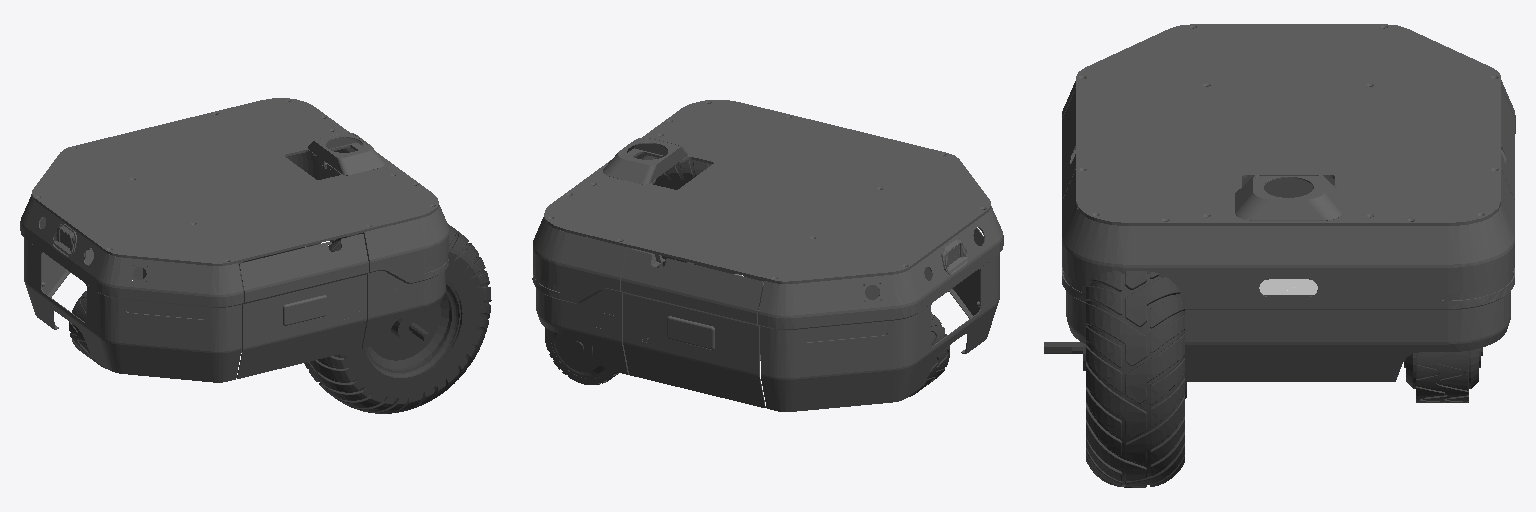
URDF robot description (ranger_delta_description):
<?xml version="1.0" encoding="utf-8"?>
<!-- This URDF was automatically created by SolidWorks to URDF Exporter! Originally created by [author] ([email redacted]) 
     Commit Version: 1.6.0-1-g15f4949  Build Version: 1.6.7594.29634
     For more information, please see http://wiki.ros.org/sw_urdf_exporter -->
<robot
  name="ranger_delta_description">
  <link
    name="base_link">
    <inertial>
      <origin
        xyz="0.00401714128029725 -0.0095612252162035 0.136523007187438"
        rpy="0 0 0" />
      <mass
        value="4.66571167619612" />
      <inertia
        ixx="0.0438692851006923"
        ixy="-2.65606919059867E-05"
        ixz="0.000117164631254687"
        iyy="0.034222178177559"
        iyz="-1.33690788788058E-05"
        izz="0.0717458146990985" />
    </inertial>
    <visual>
      <origin
        xyz="0 0 0"
        rpy="0 0 0" />
      <geometry>
        <mesh
          filename="package://ranger_delta_description/meshes/dae/base_link.dae" />
      </geometry>
      <material
        name="">
        <color
          rgba="0.411764705882353 0.411764705882353 0.411764705882353 1" />
      </material>
    </visual>
    <collision>
      <origin
        xyz="0 0 0"
        rpy="0 0 0" />
      <geometry>
        <mesh
          filename="package://ranger_delta_description/meshes/base_link.STL" />
      </geometry>
    </collision>
  </link>
  <link
    name="camera_link">
    <inertial>
      <origin
        xyz="-0.00020635639316674 -2.35913680941993E-05 6.5758576525396E-05"
        rpy="0 0 0" />
      <mass
        value="0.000545735175152403" />
      <inertia
        ixx="2.27197398719216E-07"
        ixy="-1.38658538749402E-22"
        ixz="4.79767829408248E-22"
        iyy="2.08716915895718E-08"
        iyz="1.392144772577E-11"
        izz="2.0633230530051E-07" />
    </inertial>
    <visual>
      <origin
        xyz="0 0 0"
        rpy="0 0 0" />
      <geometry>
        <mesh
          filename="package://ranger_delta_description/meshes/camera_link.STL" />
      </geometry>
      <material
        name="">
        <color
          rgba="1 1 1 1" />
      </material>
    </visual>
    <collision>
      <origin
        xyz="0 0 0"
        rpy="0 0 0" />
      <geometry>
        <mesh
          filename="package://ranger_delta_description/meshes/camera_link.STL" />
      </geometry>
    </collision>
  </link>
  <joint
    name="camera_joint"
    type="fixed">
    <origin
      xyz="0.269429617705885 0 0.170471043408036"
      rpy="0 -0.139626340159547 0" />
    <parent
      link="base_link" />
    <child
      link="camera_link" />
    <axis
      xyz="0 0 0" />
  </joint>
  <link
    name="imu_link">
    <inertial>
      <origin
        xyz="-7.5117370892025E-05 7.51173708920185E-05 0.0015"
        rpy="0 0 0" />
      <mass
        value="0.000426" />
      <inertia
        ixx="5.32909624413146E-09"
        ixy="-1.72403755868543E-10"
        ixz="-1.46688700166429E-24"
        iyy="5.32909624413147E-09"
        iyz="-1.33818263579742E-25"
        izz="1.00191924882629E-08" />
    </inertial>
    <visual>
      <origin
        xyz="0 0 0"
        rpy="0 0 0" />
      <geometry>
        <mesh
          filename="package://ranger_delta_description/meshes/imu_link.STL" />
      </geometry>
      <material
        name="">
        <color
          rgba="1 1 1 1" />
      </material>
    </visual>
    <collision>
      <origin
        xyz="0 0 0"
        rpy="0 0 0" />
      <geometry>
        <mesh
          filename="package://ranger_delta_description/meshes/imu_link.STL" />
      </geometry>
    </collision>
  </link>
  <joint
    name="imu_joint"
    type="fixed">
    <origin
      xyz="-0.00269279792190514 0.117506197251626 0.172572605714962"
      rpy="-1.5707963267949 -1.5707963267949 0" />
    <parent
      link="base_link" />
    <child
      link="imu_link" />
    <axis
      xyz="0 0 0" />
  </joint>
  <link
    name="lidar_link">
    <inertial>
      <origin
        xyz="-0.000519653097243722 1.40582277136291E-06 -0.0153588972954363"
        rpy="0 0 0" />
      <mass
        value="0.0261173591903215" />
      <inertia
        ixx="9.62352103257866E-06"
        ixy="-1.40729107640038E-11"
        ixz="2.47092730045243E-08"
        iyy="9.5183581780262E-06"
        iyz="4.21438208002377E-12"
        izz="1.72745370263659E-05" />
    </inertial>
    <visual>
      <origin
        xyz="0 0 0"
        rpy="0 0 0" />
      <geometry>
        <mesh
          filename="package://ranger_delta_description/meshes/dae/lidar_link.dae" />
      </geometry>
      <material
        name="">
        <color
          rgba="1 1 0.501960784313725 0.4" />
      </material>
    </visual>
    <collision>
      <origin
        xyz="0 0 0"
        rpy="0 0 0" />
      <geometry>
        <mesh
          filename="package://ranger_delta_description/meshes/lidar_link.STL" />
      </geometry>
    </collision>
  </link>
  <joint
    name="lidar_joint"
    type="fixed">
    <origin
      xyz="0.208499999999796 0 0.26805"
      rpy="0 0 0" />
    <parent
      link="base_link" />
    <child
      link="lidar_link" />
    <axis
      xyz="0 0 0" />
  </joint>
  <link
    name="camera_back_link">
    <inertial>
      <origin
        xyz="-0.00772337441159976 9.00870394958015E-05 -0.000242677966108155"
        rpy="0 0 0" />
      <mass
        value="0.031807044617052" />
      <inertia
        ixx="1.19183830276969E-05"
        ixy="2.62706916119488E-08"
        ixz="2.95098927434596E-07"
        iyy="4.39930252946608E-06"
        iyz="-1.35990864467845E-08"
        izz="1.02713446396506E-05" />
    </inertial>
    <visual>
      <origin
        xyz="0 0 0"
        rpy="0 0 0" />
      <geometry>
        <mesh
          filename="package://ranger_delta_description/meshes/camera_back_link.STL" />
      </geometry>
      <material
        name="">
        <color
          rgba="0.411764705882353 0.411764705882353 0.411764705882353 1" />
      </material>
    </visual>
    <collision>
      <origin
        xyz="0 0 0"
        rpy="0 0 0" />
      <geometry>
        <mesh
          filename="package://ranger_delta_description/meshes/camera_back_link.STL" />
      </geometry>
    </collision>
  </link>
  <joint
    name="camera_back_joint"
    type="fixed">
    <origin
      xyz="-0.264464976968079 1.2216555984981E-05 0.216750000000002"
      rpy="0 0 3.14159265358979" />
    <parent
      link="base_link" />
    <child
      link="camera_back_link" />
    <axis
      xyz="0 0 0" />
  </joint>
  <link
    name="rr_steering_link">
    <inertial>
      <origin
        xyz="-4.41226731558442E-05 0.0157129719173068 0.00410410320715254"
        rpy="0 0 0" />
      <mass
        value="0.935307991518183" />
      <inertia
        ixx="0.00108568401564347"
        ixy="7.74351719122828E-08"
        ixz="-2.33490053545584E-07"
        iyy="0.0010645394000231"
        iyz="-0.000235815859375118"
        izz="0.00125389488464142" />
    </inertial>
    <visual>
      <origin
        xyz="0 0 0"
        rpy="0 0 0" />
      <geometry>
        <mesh
          filename="package://ranger_delta_description/meshes/rr_steering_link.STL" />
      </geometry>
      <material
        name="">
        <color
          rgba="1 1 1 1" />
      </material>
    </visual>
    <collision>
      <origin
        xyz="0 0 0"
        rpy="0 0 0" />
      <geometry>
        <mesh
          filename="package://ranger_delta_description/meshes/rr_steering_link.STL" />
      </geometry>
    </collision>
  </link>
  <joint
    name="rr_steering_joint"
    type="continuous">
    <origin
      xyz="0.194 0.169 0.1355"
      rpy="-3.14159265358979 0 0" />
    <parent
      link="base_link" />
    <child
      link="rr_steering_link" />
    <axis
      xyz="0 0 1" />
  </joint>
  <link
    name="rr_wheel_link">
    <inertial>
      <origin
        xyz="6.57989607244502E-09 -7.59169092978684E-07 0.000340423849907151"
        rpy="0 0 0" />
      <mass
        value="0.820583552422171" />
      <inertia
        ixx="0.00105118792598525"
        ixy="-1.65641260568635E-09"
        ixz="-7.20794305982652E-10"
        iyy="0.0010511896156861"
        iyz="-2.37212383626168E-08"
        izz="0.00137093102578645" />
    </inertial>
    <visual>
      <origin
        xyz="0 0 0"
        rpy="0 0 0" />
      <geometry>
        <mesh
          filename="package://ranger_delta_description/meshes/rr_wheel_link.STL" />
      </geometry>
      <material
        name="">
        <color
          rgba="0.309803921568627 0.309803921568627 0.309803921568627 1" />
      </material>
    </visual>
    <collision>
      <origin
        xyz="0 0 0"
        rpy="0 0 0" />
      <geometry>
        <mesh
          filename="package://ranger_delta_description/meshes/rr_wheel_link.STL" />
      </geometry>
    </collision>
  </link>
  <joint
    name="rr_wheel_joint"
    type="continuous">
    <origin
      xyz="0 0 0.0749999999999999"
      rpy="-1.5707963267949 -0.0182073959539045 0" />
    <parent
      link="rr_steering_link" />
    <child
      link="rr_wheel_link" />
    <axis
      xyz="0 0 1" />
  </joint>
  <link
    name="rl_steering_link">
    <inertial>
      <origin
        xyz="4.41226731559552E-05 -0.0157129719173066 0.00410410320715303"
        rpy="0 0 0" />
      <mass
        value="0.93530799151818" />
      <inertia
        ixx="0.00108568401564347"
        ixy="7.74351719126699E-08"
        ixz="2.33490053544861E-07"
        iyy="0.0010645394000231"
        iyz="0.000235815859375117"
        izz="0.00125389488464142" />
    </inertial>
    <visual>
      <origin
        xyz="0 0 0"
        rpy="0 0 0" />
      <geometry>
        <mesh
          filename="package://ranger_delta_description/meshes/rl_steering_link.STL" />
      </geometry>
      <material
        name="">
        <color
          rgba="1 1 1 1" />
      </material>
    </visual>
    <collision>
      <origin
        xyz="0 0 0"
        rpy="0 0 0" />
      <geometry>
        <mesh
          filename="package://ranger_delta_description/meshes/rl_steering_link.STL" />
      </geometry>
    </collision>
  </link>
  <joint
    name="rl_steering_joint"
    type="continuous">
    <origin
      xyz="0.194 -0.169 0.1355"
      rpy="-3.14159265358979 0 0" />
    <parent
      link="base_link" />
    <child
      link="rl_steering_link" />
    <axis
      xyz="0 0 1" />
  </joint>
  <link
    name="rl_wheel_link">
    <inertial>
      <origin
        xyz="-6.57989604468945E-09 -7.59169092950929E-07 -0.000340423849907123"
        rpy="0 0 0" />
      <mass
        value="0.820583552422169" />
      <inertia
        ixx="0.00105118792598528"
        ixy="1.65641260678919E-09"
        ixz="-7.2079430537094E-10"
        iyy="0.00105118961568609"
        iyz="2.37212383623274E-08"
        izz="0.00137093102578646" />
    </inertial>
    <visual>
      <origin
        xyz="0 0 0"
        rpy="0 0 0" />
      <geometry>
        <mesh
          filename="package://ranger_delta_description/meshes/rl_wheel_link.STL" />
      </geometry>
      <material
        name="">
        <color
          rgba="0.309803921568627 0.309803921568627 0.309803921568627 1" />
      </material>
    </visual>
    <collision>
      <origin
        xyz="0 0 0"
        rpy="0 0 0" />
      <geometry>
        <mesh
          filename="package://ranger_delta_description/meshes/rl_wheel_link.STL" />
      </geometry>
    </collision>
  </link>
  <joint
    name="rl_wheel_joint"
    type="continuous">
    <origin
      xyz="0 0 0.0750000000000009"
      rpy="-1.5707963267949 0.0182073959539064 0" />
    <parent
      link="rl_steering_link" />
    <child
      link="rl_wheel_link" />
    <axis
      xyz="0 0 -1" />
  </joint>
  <link
    name="front_steering_link">
    <inertial>
      <origin
        xyz="0.014719396646257 -0.0100068953394268 -0.0171476491621794"
        rpy="0 0 0" />
      <mass
        value="1.60627455729252" />
      <inertia
        ixx="0.0035973026691674"
        ixy="-3.45191317483772E-07"
        ixz="0.000378008241667347"
        iyy="0.00275012578529552"
        iyz="0.000237133659024602"
        izz="0.00406988121308587" />
    </inertial>
    <visual>
      <origin
        xyz="0 0 0"
        rpy="0 0 0" />
      <geometry>
        <mesh
          filename="package://ranger_delta_description/meshes/front_steering_link.STL" />
      </geometry>
      <material
        name="">
        <color
          rgba="0.752941176470588 0.752941176470588 0.752941176470588 1" />
      </material>
    </visual>
    <collision>
      <origin
        xyz="0 0 0"
        rpy="0 0 0" />
      <geometry>
        <mesh
          filename="package://ranger_delta_description/meshes/front_steering_link.STL" />
      </geometry>
    </collision>
  </link>
  <joint
    name="front_steering_joint"
    type="continuous">
    <origin
      xyz="-0.183500000000001 0 0.1355"
      rpy="-3.14159265358979 0 0.00111234711893902" />
    <parent
      link="base_link" />
    <child
      link="front_steering_link" />
    <axis
      xyz="0 0 1" />
  </joint>
  <link
    name="front_wheel_link">
    <inertial>
      <origin
        xyz="-6.57989604468945E-09 -7.59169092950929E-07 -0.000340423849907113"
        rpy="0 0 0" />
      <mass
        value="0.82058355242217" />
      <inertia
        ixx="0.00105118792598529"
        ixy="1.65641260822576E-09"
        ixz="-7.20794305483691E-10"
        iyy="0.0010511896156861"
        iyz="2.37212383639768E-08"
        izz="0.00137093102578649" />
    </inertial>
    <visual>
      <origin
        xyz="0 0 0"
        rpy="0 0 0" />
      <geometry>
        <mesh
          filename="package://ranger_delta_description/meshes/front_wheel_link.STL" />
      </geometry>
      <material
        name="">
        <color
          rgba="0.309803921568627 0.309803921568627 0.309803921568627 1" />
      </material>
    </visual>
    <collision>
      <origin
        xyz="0 0 0"
        rpy="0 0 0" />
      <geometry>
        <mesh
          filename="package://ranger_delta_description/meshes/front_wheel_link.STL" />
      </geometry>
    </collision>
  </link>
  <joint
    name="front_wheel_joint"
    type="continuous">
    <origin
      xyz="0 0 0.0749999999999999"
      rpy="-1.5707963267949 0.0182073959539064 0.00111234711893902" />
    <parent
      link="front_steering_link" />
    <child
      link="front_wheel_link" />
    <axis
      xyz="0 0 -1" />
  </joint>
</robot>

--- Facts derived from the render (not from the file) ---
Views: 3 orthographic renders of the robot side by side, from view 1: azimuth 30°, elevation 25°; view 2: azimuth 150°, elevation 25°; view 3: azimuth 270°, elevation 25°.
Model ranger_delta_description with 11 links and 10 joints (6 continuous, 4 fixed), rooted at base_link, posed all joints at 0.
Visible links, largest first — view 1: base_link, rl_wheel_link, front_wheel_link, camera_back_link; view 2: base_link, rr_wheel_link, rl_wheel_link, front_wheel_link, camera_back_link; view 3: base_link, rl_wheel_link, rr_wheel_link, camera_link.
Link boxes in pixels (x1=…): base_link: x1=20, y1=98, x2=448, y2=382; rl_wheel_link: x1=304, y1=224, x2=491, y2=413; front_wheel_link: x1=69, y1=291, x2=106, y2=368; camera_back_link: x1=52, y1=224, x2=89, y2=257; base_link: x1=532, y1=100, x2=1003, y2=411; rr_wheel_link: x1=545, y1=327, x2=618, y2=384; rl_wheel_link: x1=653, y1=157, x2=711, y2=268; front_wheel_link: x1=907, y1=312, x2=949, y2=397; camera_back_link: x1=941, y1=238, x2=968, y2=274; base_link: x1=1062, y1=24, x2=1515, y2=381; rl_wheel_link: x1=1044, y1=271, x2=1186, y2=487; rr_wheel_link: x1=1404, y1=348, x2=1482, y2=402; camera_link: x1=1259, y1=279, x2=1317, y2=294.
Bounding box of the posed robot: 0.6237 × 0.518 × 0.3555 m (x, y, z).
Meshes: 11 distinct files referenced, 7 mesh visuals loaded (6 binary STL, 1 Collada DAE); not drawn: 4 (reference not matched to a file when rendering).